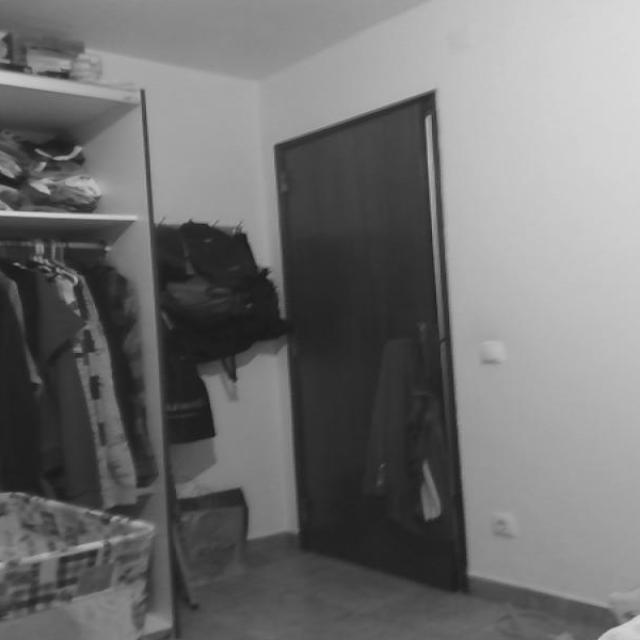Door: (272, 88, 469, 593)
